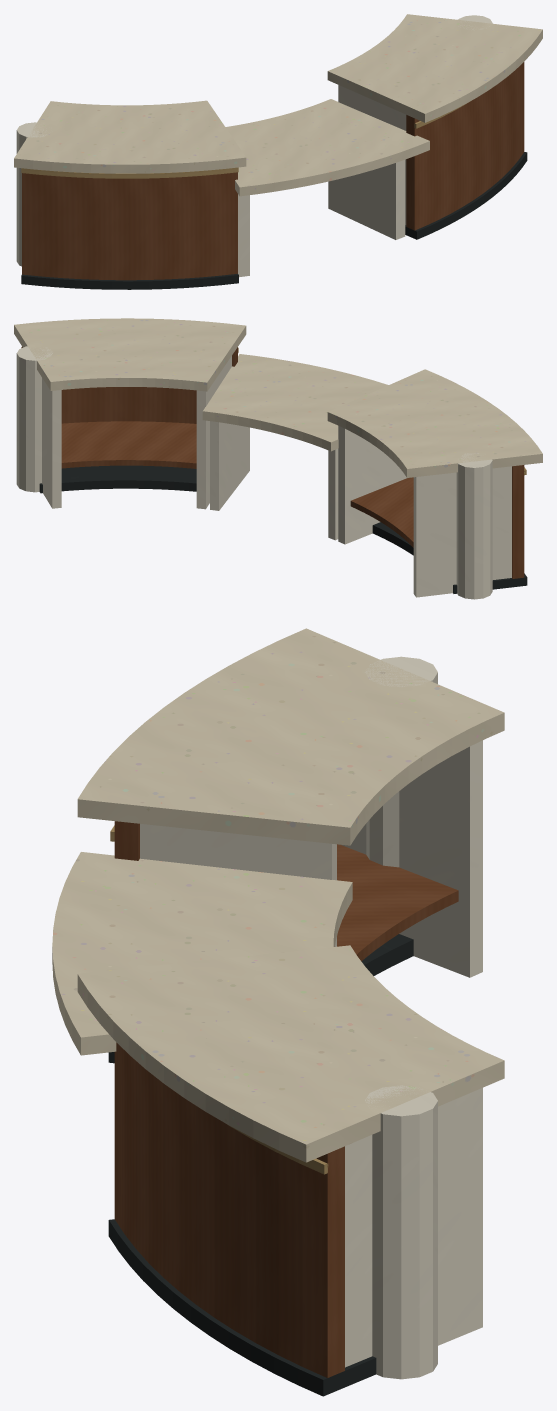
File: AST-LIB-012.glb
3 renders of one model, top to bottom at view 1: azimuth 30°, elevation 25°; view 2: azimuth 150°, elevation 25°; view 3: azimuth 270°, elevation 25°, orthographic. The views are drawn at different scales.
Visible parts, largest first — view 1: LBC_static_warm_stone, LBC_static_warm_walnut, LBC_static_ivory_enamel, LBC_static_dark_rubber, LBC_static_champagne_metal; view 2: LBC_static_warm_stone, LBC_static_ivory_enamel, LBC_static_warm_walnut, LBC_static_dark_rubber; view 3: LBC_static_warm_stone, LBC_static_ivory_enamel, LBC_static_warm_walnut, LBC_static_dark_rubber.
Part boxes in pixels (x1,y1,x2,y2): LBC_static_warm_stone: [14, 14, 542, 196]; LBC_static_warm_walnut: [22, 62, 524, 280]; LBC_static_ivory_enamel: [16, 15, 492, 277]; LBC_static_dark_rubber: [21, 152, 527, 289]; LBC_static_champagne_metal: [21, 101, 470, 178]; LBC_static_warm_stone: [14, 318, 542, 477]; LBC_static_ivory_enamel: [16, 346, 511, 599]; LBC_static_warm_walnut: [22, 347, 524, 578]; LBC_static_dark_rubber: [39, 465, 527, 593]; LBC_static_warm_stone: [52, 628, 504, 1162]; LBC_static_ivory_enamel: [140, 656, 482, 1379]; LBC_static_warm_walnut: [114, 821, 458, 1377]; LBC_static_dark_rubber: [108, 934, 413, 1396].
Bounding box in the file's own units: 4 × 0.95 × 1.48.
5 materials, 5 textured.
